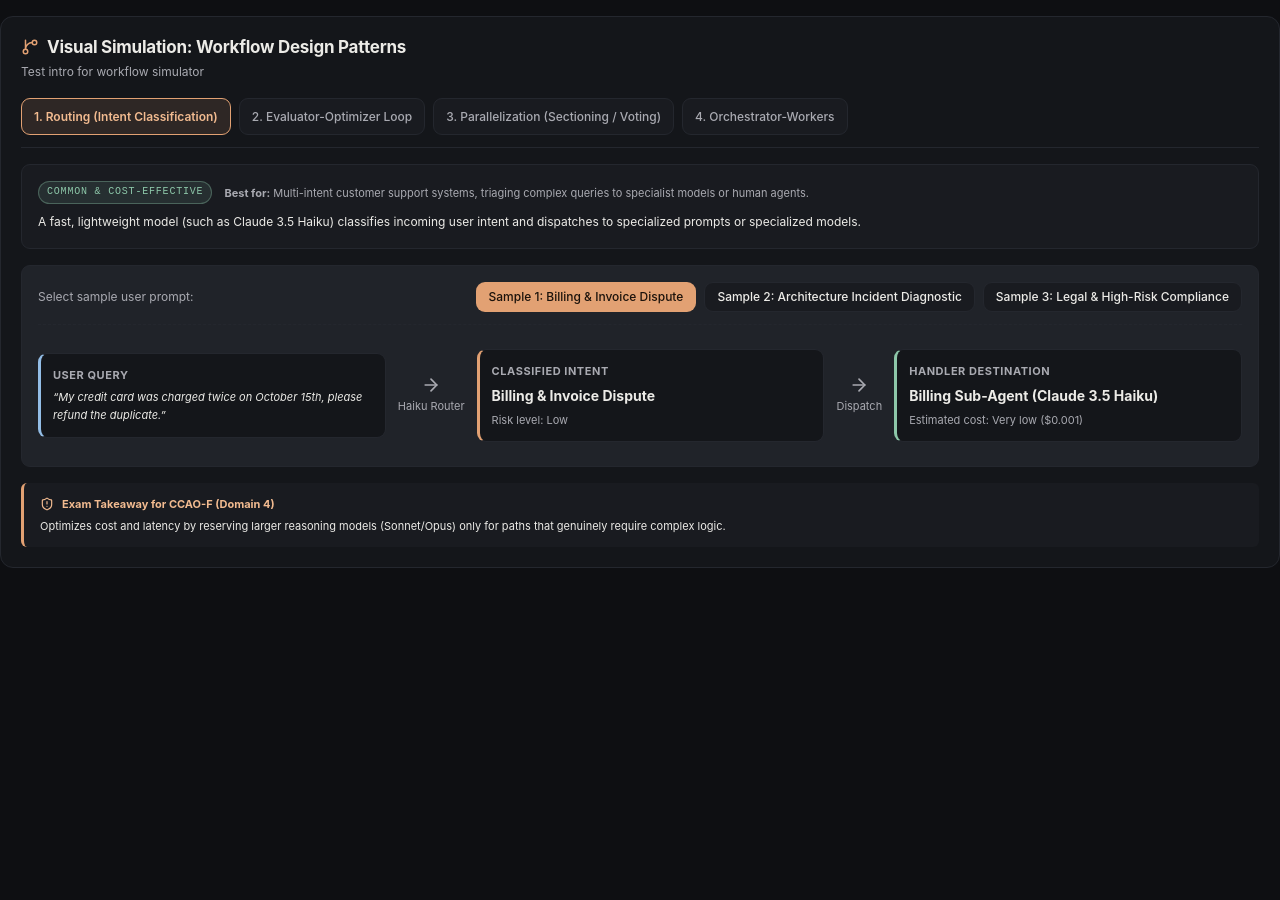
Test: WorkflowPatternsSimulator › renders pattern tabs and switches patterns
Expected: the heading "Visual Simulation: Workflow Design Patterns" is shown, top-left (47, 37), bottom-right (406, 58)
Expected: the text "Test intro for workflow simulator" is shown, top-left (21, 64), bottom-right (204, 79)
Switch to Evaluator-Optimizer
Click the button "2. Evaluator-Optimizer Loop": (332, 116) top-left (239, 98), bottom-right (425, 135)
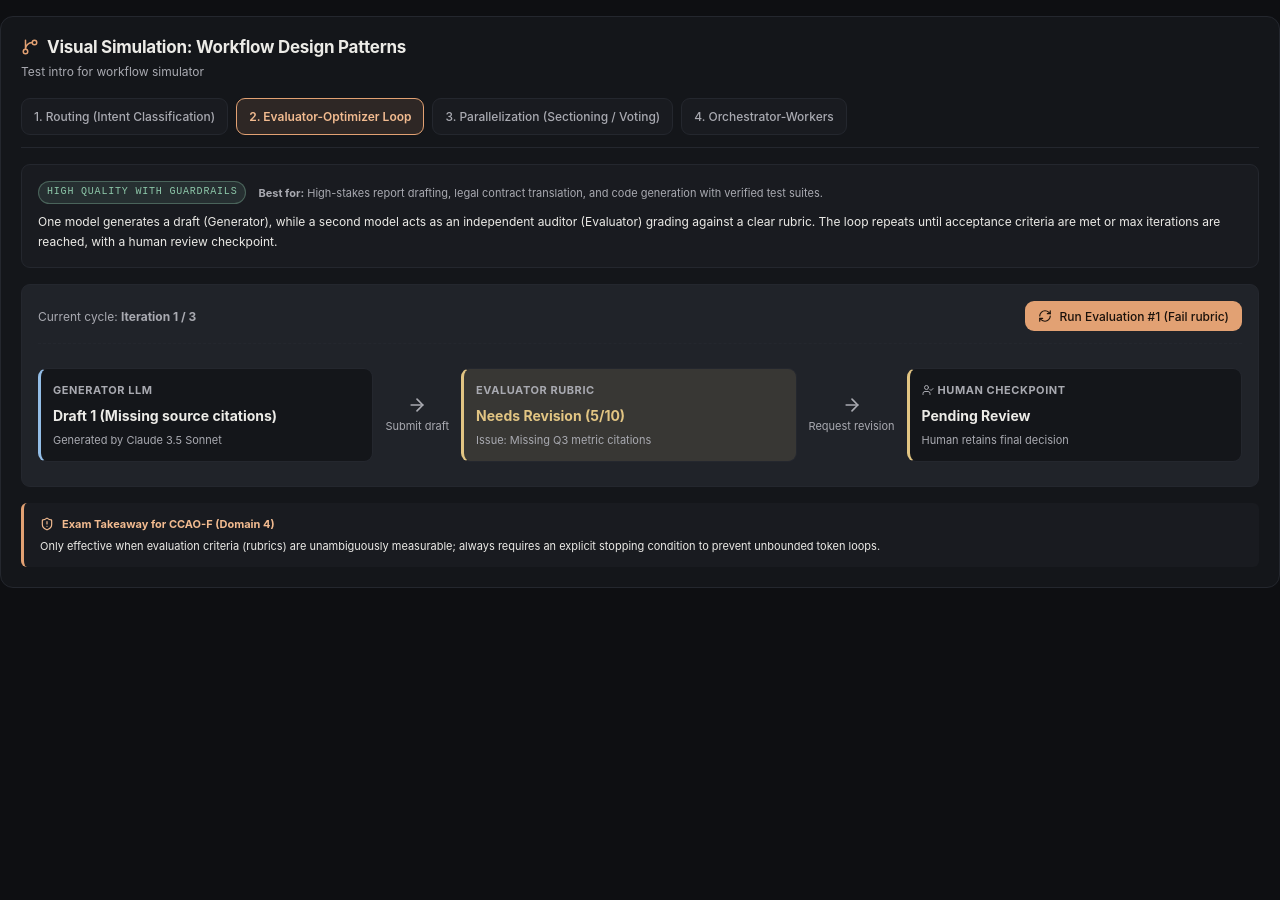
Expected: the text "Generator LLM" is shown, top-left (53, 383), bottom-right (153, 397)
Expected: the button "Run Evaluation #1 (Fail rubric)" is shown
Advance Evaluator step
Click the button "Run Evaluation #1 (Fail rubric)": (1133, 316) top-left (1024, 301), bottom-right (1242, 331)
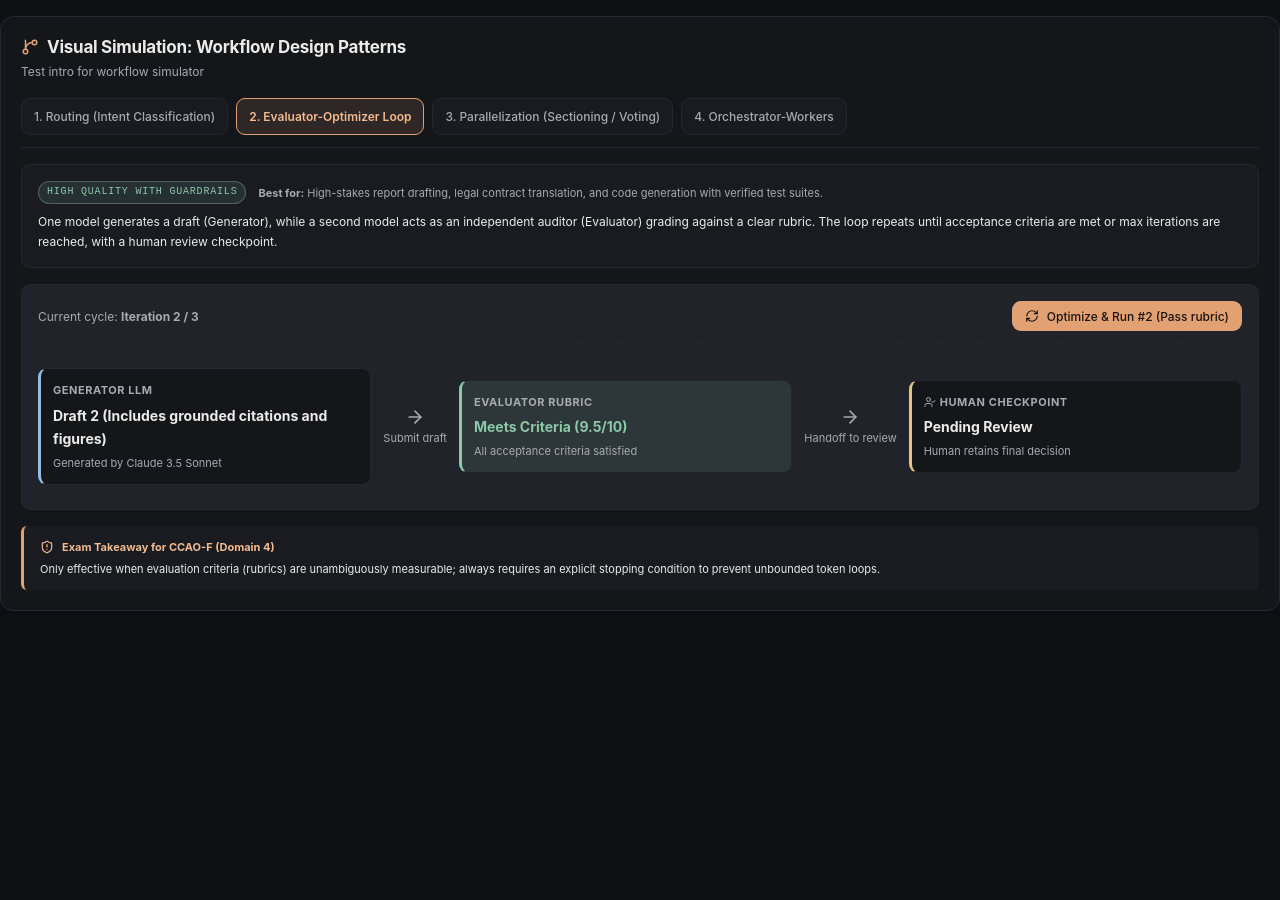
Expected: the text "Meets Criteria (9.5/10)" is shown, top-left (474, 418), bottom-right (628, 435)
Switch to Parallelization
Click the button "3. Parallelization (Sectioning / Voting)": (553, 116) top-left (432, 98), bottom-right (673, 135)
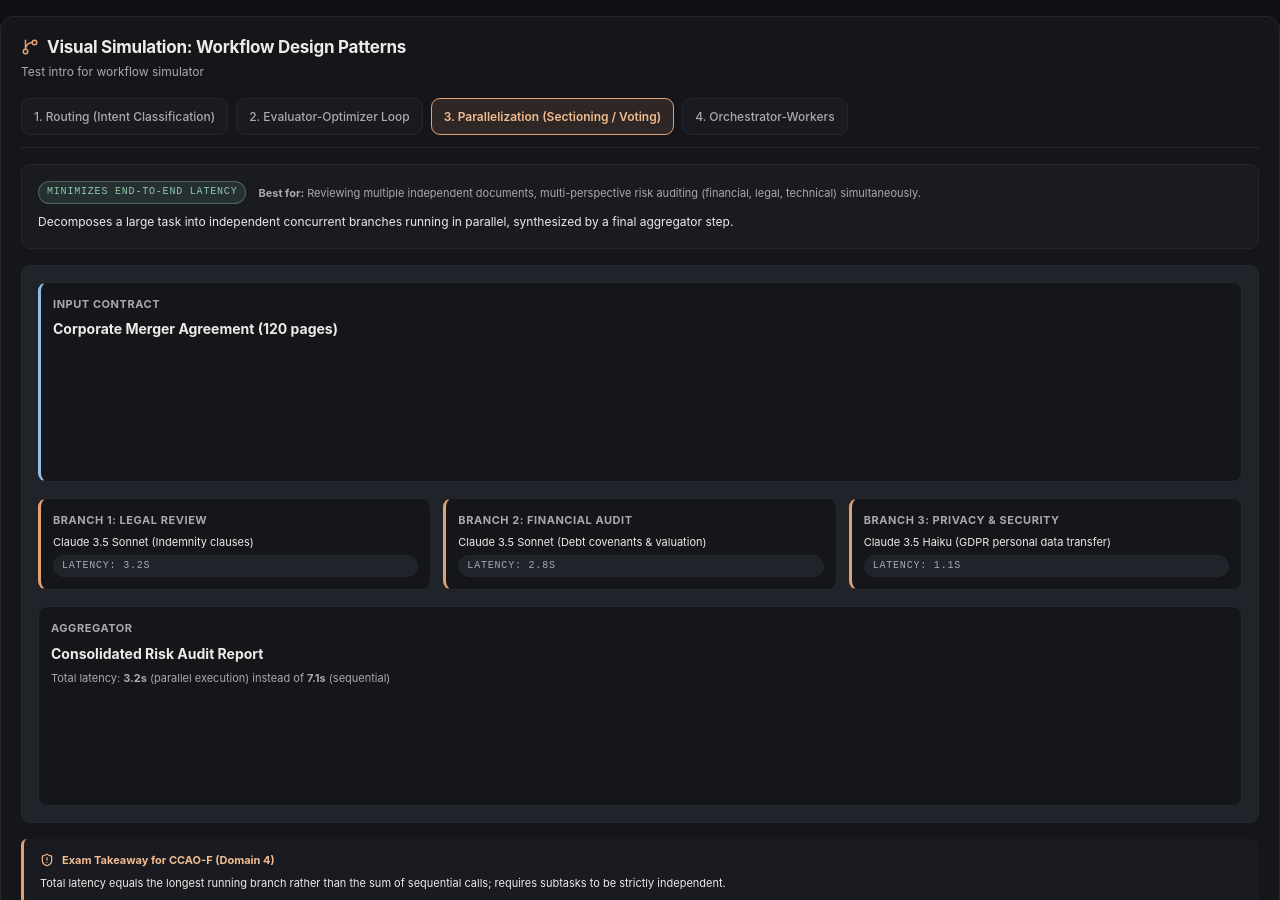
Expected: the text "Branch 1: Legal Review" is shown, top-left (53, 513), bottom-right (207, 527)
Expected: the text "Branch 2: Financial Audit" is shown, top-left (458, 513), bottom-right (632, 527)
Switch to Orchestrator
Click the button "4. Orchestrator-Workers": (765, 116) top-left (682, 98), bottom-right (848, 135)
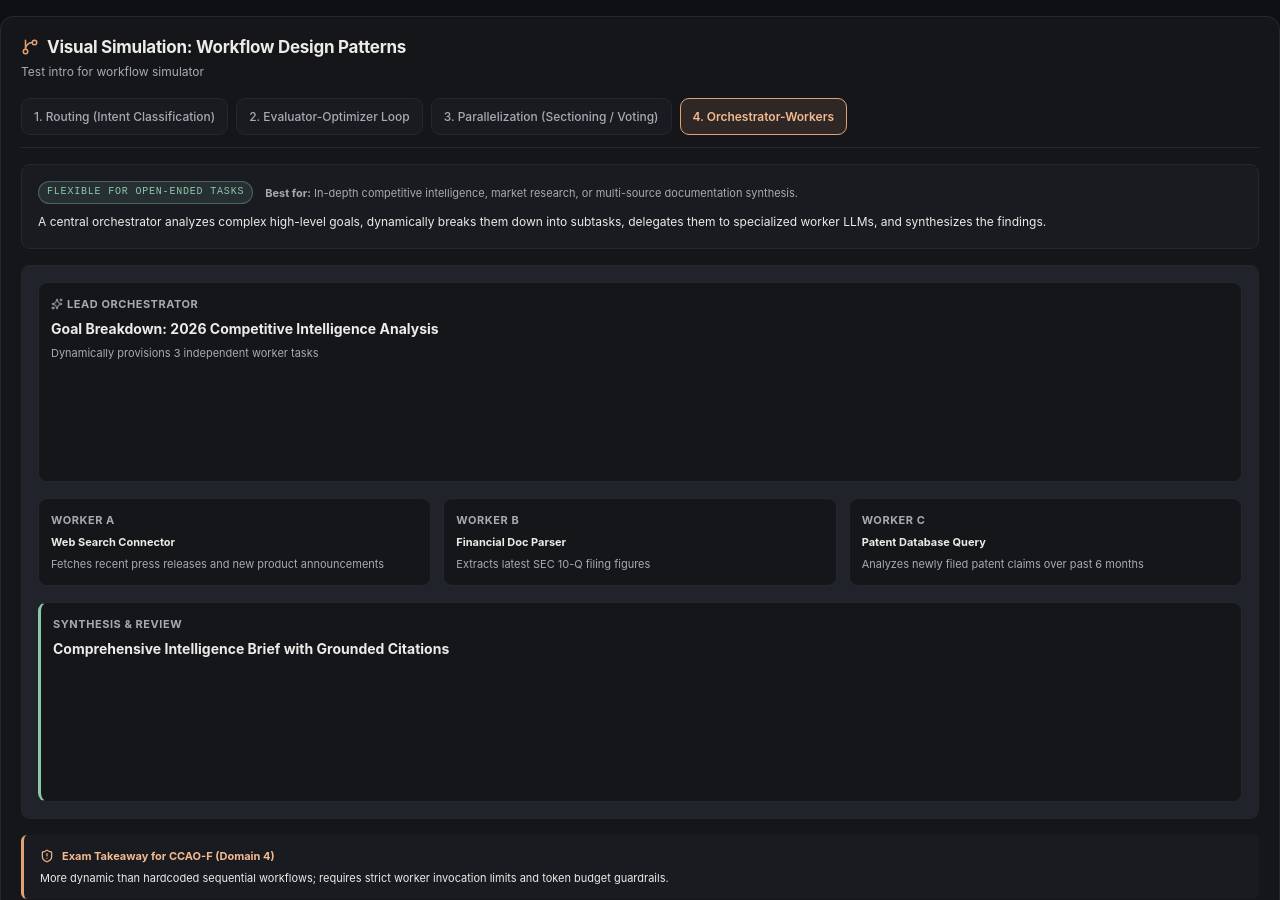
Expected: the text "Lead Orchestrator" is shown, top-left (51, 297), bottom-right (198, 311)
